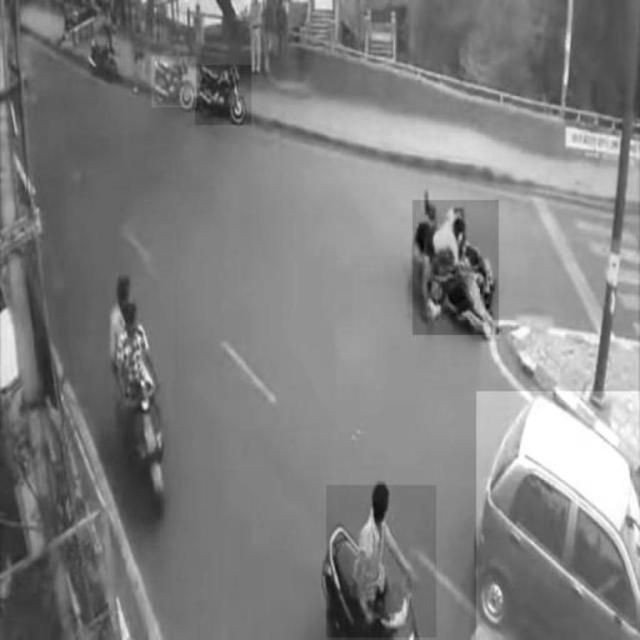accident: (413, 200, 499, 334)
vehicle: (476, 392, 640, 640), (326, 485, 436, 637), (109, 278, 173, 515), (196, 66, 252, 126), (152, 57, 197, 108)
